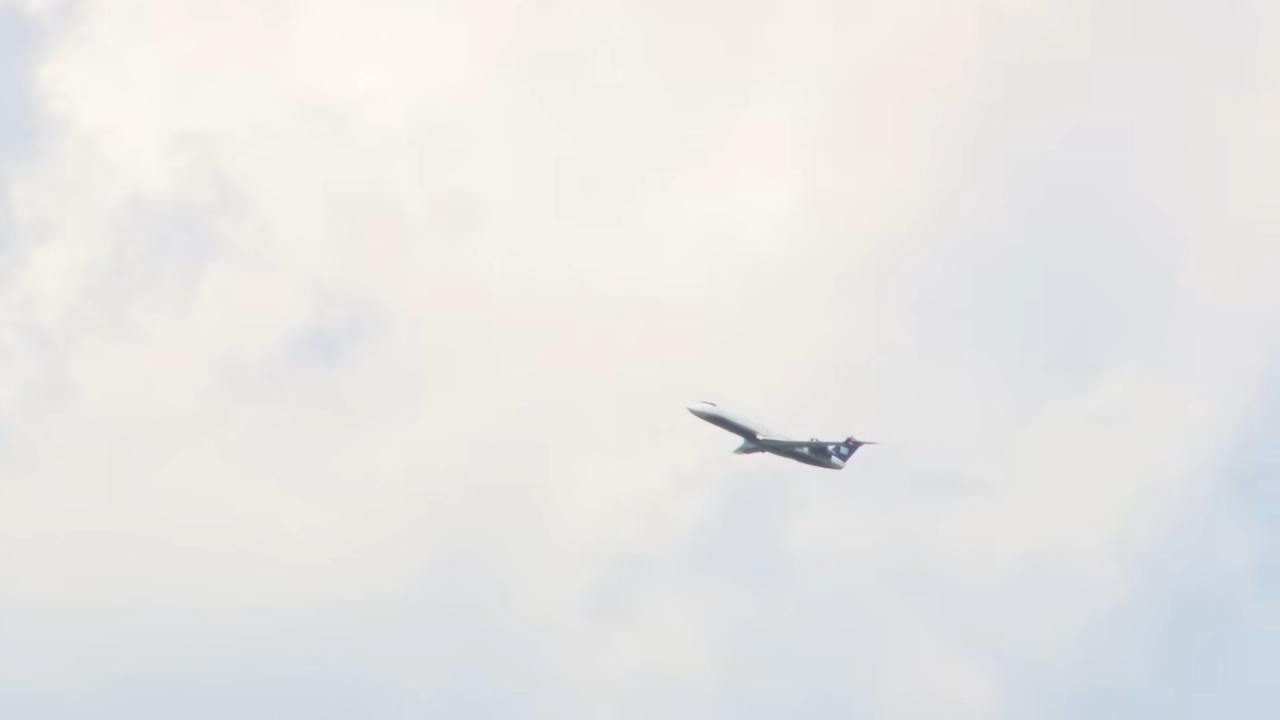Airplane: (676, 388, 885, 489)
